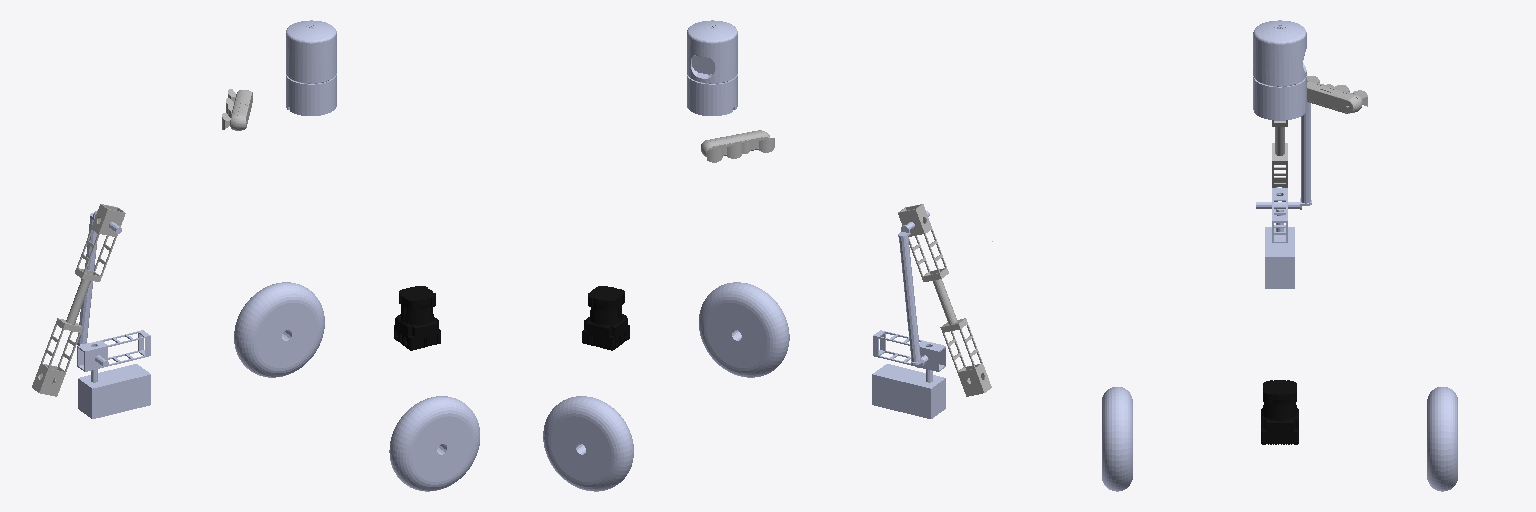
--- What the picture shows (computed from the rendered views, not written in the file) ---
3 views of the same robot in one strip: view 1: azimuth 30°, elevation 25°; view 2: azimuth 150°, elevation 25°; view 3: azimuth 270°, elevation 25° (orthographic).
Robot: BeobotV3_arm — 17 links, 16 joints (6 continuous, 10 fixed); root link dummy_link; default pose: every joint at zero.
Links seen in each view (by area): view 1: left_wheel, right_wheel, Velodine, arm_link_3, arm_base, Hokuyo, arm_link_1, realsense-3, arm_link_2; view 2: left_wheel, right_wheel, Velodine, arm_link_3, arm_base, Hokuyo, realsense-3, arm_link_2, arm_link_1; view 3: Velodine, left_wheel, right_wheel, Hokuyo, arm_base, realsense-3, arm_link_2, arm_link_3, arm_link_1.
Link boxes in pixels (x1,y1,x2,y2): left_wheel: (234, 282, 324, 377); right_wheel: (389, 396, 479, 491); Velodine: (286, 20, 336, 115); arm_link_3: (32, 204, 125, 396); arm_base: (78, 364, 150, 418); Hokuyo: (394, 286, 440, 350); arm_link_1: (77, 330, 150, 371); realsense-3: (222, 89, 252, 130); arm_link_2: (77, 210, 121, 366); left_wheel: (543, 396, 633, 491); right_wheel: (699, 282, 789, 377); Velodine: (687, 20, 737, 115); arm_link_3: (898, 204, 991, 396); arm_base: (872, 364, 945, 418); Hokuyo: (582, 286, 629, 350); realsense-3: (701, 130, 774, 162); arm_link_2: (898, 211, 940, 367); arm_link_1: (873, 330, 945, 371); Velodine: (1253, 20, 1306, 120); left_wheel: (1427, 387, 1457, 491); right_wheel: (1102, 387, 1132, 491); Hokuyo: (1261, 380, 1298, 444); arm_base: (1265, 209, 1294, 288); realsense-3: (1307, 76, 1367, 113); arm_link_2: (1256, 102, 1311, 209); arm_link_3: (1272, 120, 1287, 201); arm_link_1: (1272, 188, 1287, 242).
Bounding box of the posed robot: 0.7713 × 0.5707 × 0.7689 m (x, y, z).
Meshes: 15 distinct files referenced, 9 mesh visuals loaded (9 binary STL); not drawn: 6 (reference not matched to a file when rendering).

URDF robot description (BeobotV3_arm):
<?xml version="1.0" encoding="utf-8" ?>
<!-- This URDF was automatically created by SolidWorks to URDF Exporter! Originally created by Stephen Brawner ([email redacted])
     Commit Version: 1.6.0-1-g15f4949  Build Version: 1.6.7594.29634
     For more information, please see http://wiki.ros.org/sw_urdf_exporter -->
<robot name="BeobotV3_arm">
    <link name="dummy_link" />

    <joint name="base_joint" type="fixed">
      <parent link="dummy_link"/>
      <child link="base_link"/>
    </joint>

    <link name="base_link">
        <inertial>
            <origin xyz="-0.0540524229513283 -2.80196644130983E-18 0.15164478218561" rpy="0 0 0" />
            <mass value="12.6734803957436" />
            <inertia
              ixx="0.190640162086902"
              ixy="-3.99961466955356E-19"
              ixz="-3.56567450144761E-06"
              iyy="0.0962399295509494"
              iyz="-4.43897166295985E-18"
              izz="0.279749651250404" />
        </inertial>
        <visual>
            <origin xyz="0 0 0" rpy="0 0 0" />
            <geometry>
                <mesh filename="package://BeobotV3_arm/meshes/base_link.STL" />
            </geometry>
            <material name="">
                <color rgba="0.752941176470588 0.752941176470588 0.752941176470588 1" />
            </material>
        </visual>
        <collision>
            <origin xyz="0 0 0" rpy="0 0 0" />
            <geometry>
                <mesh filename="package://BeobotV3_arm/meshes/base_link.STL" />
            </geometry>
        </collision>
    </link>

    <link name="left_wheel">
        <inertial>
            <origin xyz="0 0 0.025" rpy="0 0 0" />
            <mass value="0.963877503284561" />
            <inertia
              ixx="0.00173116001505925"
              ixy="9.09442722940398E-37"
              ixz="7.05860789378559E-22"
              iyy="0.00173116001505925"
              iyz="7.62310521474892E-37"
              izz="0.00310961165234764" />
        </inertial>
        <visual>
            <origin xyz="0 0 0" rpy="0 0 0" />
            <geometry>
                <mesh filename="package://BeobotV3_arm/meshes/left_wheel.STL" />
                <!-- <cylinder radius="0.84" length="0.05"/> -->
            </geometry>
            <material name="">
                <color rgba="0.792156862745098 0.819607843137255 0.933333333333333 1" />
            </material>
        </visual>
        <collision>
            <origin xyz="0 0 0" rpy="0 0 0" />
            <geometry>
                <mesh filename="package://BeobotV3_arm/meshes/left_wheel.STL" />
                <!-- <cylinder radius="0.84" length="0.05"/> -->
            </geometry>
        </collision>
    </link>
    <joint name="left_wheel_joint" type="continuous">
        <origin xyz="0 0.23535 0" rpy="1.5707963267949 0 3.14159265358979" />
        <parent link="base_link" />
        <child link="left_wheel" />
        <axis xyz="0 0 1" />
    </joint>

    <link name="right_wheel">
        <inertial>
            <origin xyz="0 2.08166817117217E-17 -0.0250000000000001" rpy="0 0 0" />
            <mass value="0.963877503284561" />
            <inertia
              ixx="0.00173116001505925"
              ixy="-5.14894137640762E-36"
              ixz="-1.30593527677662E-21"
              iyy="0.00173116001505925"
              iyz="5.86567729539708E-36"
              izz="0.00310961165234764" />
        </inertial>
        <visual>
            <origin xyz="0 0 0" rpy="0 0 0" />
            <geometry>
                <mesh filename="package://BeobotV3_arm/meshes/right_wheel.STL" />
                <!-- <cylinder radius="0.84" length="0.05"/> -->
            </geometry>
            <material name="">
                <color rgba="0.792156862745098 0.819607843137255 0.933333333333333 1" />
            </material>
        </visual>
        <collision>
            <origin xyz="0 0 0" rpy="0 0 0" />
            <geometry>
                <mesh filename="package://BeobotV3_arm/meshes/right_wheel.STL" />
                <!-- <cylinder radius="0.84" length="0.05"/> -->
            </geometry>
        </collision>
    </link>
    <joint name="right_wheel_joint" type="continuous">
        <origin xyz="0 -0.23535 0" rpy="1.5707963267949 0 3.14159265358979" />
        <parent link="base_link" />
        <child link="right_wheel" />
        <axis xyz="0 0 1" />
    </joint>

    <link name="Velodine">
        <inertial>
            <origin xyz="-0.0306692795169704 -0.400775426971348 3.61117669160948E-05" rpy="0 0 0" />
            <mass value="15.9477582618054" />
            <inertia
              ixx="0.838105665340041"
              ixy="-0.0948860132071082"
              ixz="-7.28121256851248E-05"
              iyy="0.594843663668739"
              iyz="-0.000139948208842804"
              izz="0.789705212541028" />
        </inertial>
        <visual>
            <origin xyz="0 0 0" rpy="0 0 0" />
            <geometry>
                <mesh filename="package://BeobotV3_arm/meshes/Velodine.STL" />
            </geometry>
            <material name="">
                <color rgba="0.792156862745098 0.819607843137255 0.933333333333333 1" />
            </material>
        </visual>
        <collision>
            <origin xyz="0 0 0" rpy="0 0 0" />
            <geometry>
                <mesh filename="package://BeobotV3_arm/meshes/Velodine.STL" />
            </geometry>
        </collision>
    </link>
    <joint name="Velodine_joint" type="fixed">
        <origin xyz="-0.0889 0 0.5403395" rpy="1.5707963267949 0 3.14159265358979" />
        <parent link="base_link" />
        <child link="Velodine" />
        <axis xyz="0 0 0" />
    </joint>

    <link name="Hokuyo">
        <inertial>
            <origin xyz="9.62077518563717E-13 -0.0104575797147916 1.47756675626942E-05" rpy="0 0 0" />
            <mass value="0.485765672289228" />
            <inertia
              ixx="0.000181662528040023"
              ixy="-9.18790817482381E-15"
              ixz="-3.66491747065221E-18"
              iyy="0.000256014886917181"
              iyz="3.34955142680391E-07"
              izz="0.000181671483298989" />
        </inertial>
        <visual>
            <origin xyz="0 0 0" rpy="0 0 0" />
            <geometry>
                <mesh filename="package://BeobotV3_arm/meshes/Hokuyo.STL" />
            </geometry>
            <material name="">
                <color rgba="0.109803921568627 0.109803921568627 0.109803921568627 1" />
            </material>
        </visual>
        <collision>
            <origin xyz="0 0 0" rpy="0 0 0" />
            <geometry>
                <mesh filename="package://BeobotV3_arm/meshes/Hokuyo.STL" />
            </geometry>
        </collision>
    </link>
    <joint name="Hokuyo_joint" type="fixed">
        <origin xyz="0.1162 0 0.0993875000000001" rpy="1.5707963267949 0 1.5707963267949" />
        <parent link="base_link" />
        <child link="Hokuyo" />
        <axis xyz="0 0 0" />
    </joint>

    <link name="realsense_1">
        <inertial>
            <origin xyz="-0.000390708976708254 6.02138506335947E-05 -0.00789836129257429" rpy="0 0 0" />
            <mass value="0.0640757405660625" />
            <inertia
              ixx="4.56933951027745E-06"
              ixy="1.96370249253269E-08"
              ixz="-1.96401695521429E-08"
              iyy="5.78325356060115E-05"
              iyz="-2.70197586009906E-08"
              izz="6.11005211697343E-05" />
        </inertial>
        <visual>
            <origin xyz="0 0 0" rpy="0 0 0" />
            <geometry>
                <mesh filename="package://BeobotV3_arm/meshes/realsense_1.STL" />
            </geometry>
            <material name="">
                <color rgba="0.752941176470588 0.752941176470588 0.752941176470588 1" />
            </material>
        </visual>
        <collision>
            <origin xyz="0 0 0" rpy="0 0 0" />
            <geometry>
                <mesh filename="package://BeobotV3_arm/meshes/realsense_1.STL" />
            </geometry>
        </collision>
    </link>
    <joint name="realsense_1_joint" type="fixed">
        <origin xyz="0.0422600000000009 -0.0099999999999999 0.5213395" rpy="1.5707963267949 0 1.5707963267949" />
        <parent link="base_link" />
        <child link="realsense_1" />
        <axis xyz="0 0 0" />
    </joint>

    <link name="realsense_2">
        <inertial>
            <origin xyz="-0.000390727709374324 6.02198850023772E-05 -0.00789831959333617" rpy="0 0 0" />
            <mass value="0.0640758135186947" />
            <inertia
              ixx="4.56932762258512E-06"
              ixy="1.96279369811374E-08"
              ixz="-1.96296363724813E-08"
              iyy="5.78324921025392E-05"
              iyz="-2.70182564061608E-08"
              izz="6.11004660020637E-05" />
        </inertial>
        <visual>
            <origin xyz="0 0 0" rpy="0 0 0" />
            <geometry>
                <mesh filename="package://BeobotV3_arm/meshes/realsense_2.STL" />
            </geometry>
            <material name="">
                <color rgba="0.752941176470588 0.752941176470588 0.752941176470588 1" />
            </material>
        </visual>
        <collision>
            <origin xyz="0 0 0" rpy="0 0 0" />
            <geometry>
                <mesh filename="package://BeobotV3_arm/meshes/realsense_2.STL" />
            </geometry>
        </collision>
    </link>
    <joint name="realsense_2_joint" type="fixed">
        <origin xyz="-0.0388587658548304 0.121650402733524 0.5213395" rpy="1.5707963267949 0 2.82743338823082" />
        <parent link="base_link" />
        <child link="realsense_2" />
        <axis xyz="0 0 0" />
    </joint>

    <link name="realsense-3">
        <inertial>
            <origin xyz="-0.000390711119713887 6.0214027051253E-05 -0.00789829972985666" rpy="0 0 0" />
            <mass value="0.0640759768391155" />
            <inertia
              ixx="4.56931678319547E-06"
              ixy="1.96354125642956E-08"
              ixz="-1.96294332408421E-08"
              iyy="5.78325523279262E-05"
              iyz="-2.70157099252027E-08"
              izz="6.11005273550649E-05" />
        </inertial>
        <visual>
            <origin xyz="0 0 0" rpy="0 0 0" />
            <geometry>
                <mesh filename="package://BeobotV3_arm/meshes/realsense-3.STL" />
            </geometry>
            <material name="">
                <color rgba="0.752941176470588 0.752941176470588 0.752941176470588 1" />
            </material>
        </visual>
        <collision>
            <origin xyz="0 0 0" rpy="0 0 0" />
            <geometry>
                <mesh filename="package://BeobotV3_arm/meshes/realsense-3.STL" />
            </geometry>
        </collision>
    </link>
    <joint name="realsense_3_joint" type="fixed">
        <origin xyz="-0.189132816459295 0.0851840836344303 0.5213395" rpy="1.5707963267949 0 -2.19911485751285" />
        <parent link="base_link" />
        <child link="realsense-3" />
        <axis xyz="0 0 0" />
    </joint>

    <link name="realsense-4">
        <inertial>
            <origin xyz="-0.000390713919330141 6.02136936868058E-05 -0.00789830932141175" rpy="0 0 0" />
            <mass value="0.0640759568050313" />
            <inertia
              ixx="4.56931439760879E-06"
              ixy="1.96328683659395E-08"
              ixz="-1.96361734184813E-08"
              iyy="5.78325491650241E-05"
              iyz="-2.70155908153957E-08"
              izz="6.11005263839729E-05" />
        </inertial>
        <visual>
            <origin xyz="0 0 0" rpy="0 0 0" />
            <geometry>
                <mesh filename="package://BeobotV3_arm/meshes/realsense-4.STL" />
            </geometry>
            <material name="">
                <color rgba="0.752941176470588 0.752941176470588 0.752941176470588 1" />
            </material>
        </visual>
        <collision>
            <origin xyz="0 0 0" rpy="0 0 0" />
            <geometry>
                <mesh filename="package://BeobotV3_arm/meshes/realsense-4.STL" />
            </geometry>
        </collision>
    </link>
    <joint name="realsense_4_joint" type="fixed">
        <origin xyz="-0.200888521505143 -0.0690037437469328 0.5213395" rpy="1.5707963267949 0 -0.942477796076929" />
        <parent link="base_link" />
        <child link="realsense-4" />
        <axis xyz="0 0 0" />
    </joint>

    <link name="realsense-5">
        <inertial>
            <origin xyz="-0.000390716747956966 6.02205586848759E-05 -0.00789835970695009" rpy="0 0 0" />
            <mass value="0.0640758067142823" />
            <inertia
              ixx="4.56932587114845E-06"
              ixy="1.96259892936864E-08"
              ixz="-1.9636514209515E-08"
              iyy="5.78325456632199E-05"
              iyz="-2.7015732675257E-08"
              izz="6.11005215872334E-05" />
        </inertial>
        <visual>
            <origin xyz="0 0 0" rpy="0 0 0" />
            <geometry>
                <mesh filename="package://BeobotV3_arm/meshes/realsense-5.STL" />
            </geometry>
            <material name="">
                <color rgba="0.752941176470588 0.752941176470588 0.752941176470588 1" />
            </material>
        </visual>
        <collision>
            <origin xyz="0 0 0" rpy="0 0 0" />
            <geometry>
                <mesh filename="package://BeobotV3_arm/meshes/realsense-5.STL" />
            </geometry>
        </collision>
    </link>
    <joint name="realsense_5_joint" type="fixed">
        <origin xyz="-0.0578798961807318 -0.127830742621022 0.5213395" rpy="1.5707963267949 0 0.314159265358991" />
        <parent link="base_link" />
        <child link="realsense-5" />
        <axis xyz="0 0 0" />
    </joint>

    <link name="arm_base">
        <inertial>
            <origin xyz="0.000546883601580506 -0.000676404986259573 -1.5573062355025E-18" rpy="0 0 0" />
            <mass value="0.323605809581169" />
            <inertia
              ixx="0.000161147613159255"
              ixy="8.44321479741357E-06"
              ixz="1.7747106211892E-21"
              iyy="0.000418295360654488"
              iyz="3.84890762879816E-21"
              izz="0.000450631135476571" />
        </inertial>
        <visual>
            <origin xyz="0 0 0" rpy="0 0 0" />
            <geometry>
                <mesh filename="package://BeobotV3_arm/meshes/arm_base.STL" />
            </geometry>
            <material name="">
                <color rgba="0.792156862745098 0.819607843137255 0.933333333333333 1" />
            </material>
        </visual>
        <collision>
            <origin xyz="0 0 0" rpy="0 0 0" />
            <geometry>
                <mesh filename="package://BeobotV3_arm/meshes/arm_base.STL" />
            </geometry>
        </collision>
    </link>
    <joint name="arm_base_joint" type="fixed">
        <origin xyz="-0.46908 0 0.1007725" rpy="-1.5707963267949 0 3.14159265358979" />
        <parent link="base_link" />
        <child link="arm_base" />
        <axis xyz="0 0 0" />
    </joint>

    <link name="arm_link_1">
        <inertial>
            <origin xyz="1.66693590412612E-17 -0.019 -0.0227815027756187" rpy="0 0 0" />
            <mass value="0.0178646986447077" />
            <inertia
              ixx="3.44196286692544E-05"
              ixy="-1.76485860894459E-22"
              ixz="5.0792226343193E-21"
              iyy="3.24160176753154E-05"
              iyz="2.97521070776508E-21"
              izz="5.52910048182246E-06" />
        </inertial>
        <visual>
            <origin xyz="0 0 0" rpy="0 0 0" />
            <geometry>
                <mesh filename="package://BeobotV3_arm/meshes/arm_link_1.STL" />
            </geometry>
            <material name="">
                <color rgba="0.792156862745098 0.819607843137255 0.933333333333333 1" />
            </material>
        </visual>
        <collision>
            <origin xyz="0 0 0" rpy="0 0 0" />
            <geometry>
                <mesh filename="package://BeobotV3_arm/meshes/arm_link_1.STL" />
            </geometry>
        </collision>
    </link>
    <joint name="arm_joint_1" type="continuous">
        <origin xyz="0.03912 -0.055925 0" rpy="0 1.5707963267949 0" />
        <parent link="arm_base" />
        <child link="arm_link_1" />
        <axis xyz="0 1 0" />
    </joint>

    <link name="arm_link_2">
        <inertial>
            <origin xyz="-0.121 -0.0307964899121853 -1.11022302462516E-16" rpy="0 0 0" />
            <mass value="0.0649301185542533" />
            <inertia
              ixx="3.22586635547296E-05"
              ixy="-2.52074029621246E-19"
              ixz="-4.84926362303087E-20"
              iyy="0.000476962065829218"
              iyz="-1.13511271119677E-20"
              izz="0.000507342791034516" />
        </inertial>
        <visual>
            <origin xyz="0 0 0" rpy="0 0 0" />
            <geometry>
                <mesh filename="package://BeobotV3_arm/meshes/arm_link_2.STL" />
            </geometry>
            <material name="">
                <color rgba="0.792156862745098 0.819607843137255 0.933333333333333 1" />
            </material>
        </visual>
        <collision>
            <origin xyz="0 0 0" rpy="0 0 0" />
            <geometry>
                <mesh filename="package://BeobotV3_arm/meshes/arm_link_2.STL" />
            </geometry>
        </collision>
    </link>
    <joint name="arm_joint_2" type="continuous">
        <origin xyz="0 -0.019 0" rpy="0 -0.109072359195873 1.5707963267949" />
        <parent link="arm_link_1" />
        <child link="arm_link_2" />
        <axis xyz="0 1 0" />
    </joint>

    <link name="arm_link_3">
        <inertial>
            <origin xyz="1.67772086973387E-17 0 -0.14258" rpy="0 0 0" />
            <mass value="0.0575915155354546" />
            <inertia
              ixx="8.87747106609759E-05"
              ixy="4.28852501605822E-21"
              ixz="2.93227973606134E-21"
              iyy="8.446537989153E-05"
              iyz="7.15742840429884E-20"
              izz="1.22592484459501E-05" />
        </inertial>
        <visual>
            <origin xyz="0 0 0" rpy="0 0 0" />
            <geometry>
                <mesh filename="package://BeobotV3_arm/meshes/arm_link_3.STL" />
            </geometry>
            <material name="">
                <color rgba="0.752941176470588 0.752941176470588 0.752941176470588 1" />
            </material>
        </visual>
        <collision>
            <origin xyz="0 0 0" rpy="0 0 0" />
            <geometry>
                <mesh filename="package://BeobotV3_arm/meshes/arm_link_3.STL" />
            </geometry>
        </collision>
    </link>
    <joint name="arm_joint_3" type="continuous">
        <origin xyz="-0.242 0 0" rpy="1.86868906869276 0 -1.5707963267949" />
        <parent link="arm_link_2" />
        <child link="arm_link_3" />
        <axis xyz="1 0 0" />
    </joint>

    <link name="hand">
        <inertial>
            <origin xyz="-0.136178264835158 -0.0169303769012779 -0.0186384219718446" rpy="0 0 0" />
            <mass value="0.0763861884062101" />
            <inertia
              ixx="7.13119994044158E-05"
              ixy="-0.000120515662281869"
              ixz="3.87785049449802E-05"
              iyy="0.000543690574797547"
              iyz="6.36829910880985E-06"
              izz="0.000568937035268819" />
        </inertial>
        <visual>
            <origin xyz="0 0 0" rpy="0 0 0" />
            <geometry>
                <mesh filename="package://BeobotV3_arm/meshes/hand.STL" />
            </geometry>
            <material name="">
                <color rgba="0.792156862745098 0.819607843137255 0.933333333333333 1" />
            </material>
        </visual>
        <collision>
            <origin xyz="0 0 0" rpy="0 0 0" />
            <geometry>
                <mesh filename="package://BeobotV3_arm/meshes/hand.STL" />
            </geometry>
        </collision>
    </link>
    <joint name="hand_joint" type="continuous">
        <origin xyz="0 0 -0.28516" rpy="-1.5707963267949 0.812050775618667 -1.5707963267949" />
        <parent link="arm_link_3" />
        <child link="hand" />
        <axis xyz="0 0 1" />
    </joint>

    <link name="hand_tip">
        <!-- FIXME: dummy mass and collision added to not get ignored by gazebo and moveit -->
        <inertial>
            <origin xyz="0 0 0" rpy="0 0 0" />
            <mass value="0.001" />
            <inertia ixx="0.001" ixy="0" ixz="0" iyy="0.001" iyz="0" izz="0.001" />
        </inertial>
        <visual>
            <origin xyz="0 0 0" rpy="0 0 0.45" />
            <geometry>
                <box size="0.001 0.001 0.001" />
            </geometry>
            <material name="">
                <color rgba="0.792156862745098 0.819607843137255 0.933333333333333 1" />
            </material>
        </visual>
        <collision>
            <origin xyz="0 0 0" rpy="0 0 0.45" />
            <geometry>
                <box size="0.001 0.001 0.001" />
            </geometry>
        </collision>
    </link>
    <joint name="hand_tip_joint" type="fixed">
        <origin xyz="-0.25 -0.06 -0.01" rpy="0 0 0" />
        <parent link="hand" />
        <child link="hand_tip" />
        <axis xyz="0 0 0" />
    </joint>

    <transmission name="trans_left_wheel_joint">
        <type>transmission_interface/SimpleTransmission</type>
        <joint name="left_wheel_joint">
            <hardwareInterface>hardware_interface/VelocityJointInterface</hardwareInterface>
        </joint>
        <actuator name="left_wheel_joint_motor">
            <hardwareInterface>hardware_interface/VelocityJointInterface</hardwareInterface>
            <mechanicalReduction>1</mechanicalReduction>
        </actuator>
    </transmission>
    <transmission name="trans_right_wheel_joint">
        <type>transmission_interface/SimpleTransmission</type>
        <joint name="right_wheel_joint">
            <hardwareInterface>hardware_interface/VelocityJointInterface</hardwareInterface>
        </joint>
        <actuator name="right_wheel_joint_motor">
            <hardwareInterface>hardware_interface/VelocityJointInterface</hardwareInterface>
            <mechanicalReduction>1</mechanicalReduction>
        </actuator>
    </transmission>
    <transmission name="trans_arm_joint_1">
        <type>transmission_interface/SimpleTransmission</type>
        <joint name="arm_joint_1">
            <hardwareInterface>hardware_interface/PositionJointInterface</hardwareInterface>
        </joint>
        <actuator name="arm_joint_1_motor">
            <hardwareInterface>hardware_interface/PositionJointInterface</hardwareInterface>
            <mechanicalReduction>1</mechanicalReduction>
        </actuator>
    </transmission>
    <transmission name="trans_arm_joint_2">
        <type>transmission_interface/SimpleTransmission</type>
        <joint name="arm_joint_2">
            <hardwareInterface>hardware_interface/PositionJointInterface</hardwareInterface>
        </joint>
        <actuator name="arm_joint_2_motor">
            <hardwareInterface>hardware_interface/PositionJointInterface</hardwareInterface>
            <mechanicalReduction>1</mechanicalReduction>
        </actuator>
    </transmission>
    <transmission name="trans_arm_joint_3">
        <type>transmission_interface/SimpleTransmission</type>
        <joint name="arm_joint_3">
            <hardwareInterface>hardware_interface/PositionJointInterface</hardwareInterface>
        </joint>
        <actuator name="arm_joint_3_motor">
            <hardwareInterface>hardware_interface/PositionJointInterface</hardwareInterface>
            <mechanicalReduction>1</mechanicalReduction>
        </actuator>
    </transmission>
    <transmission name="trans_hand_joint">
        <type>transmission_interface/SimpleTransmission</type>
        <joint name="hand_joint">
            <hardwareInterface>hardware_interface/PositionJointInterface</hardwareInterface>
        </joint>
        <actuator name="hand_joint_motor">
            <hardwareInterface>hardware_interface/PositionJointInterface</hardwareInterface>
            <mechanicalReduction>1</mechanicalReduction>
        </actuator>
    </transmission>

    <gazebo reference="arm_link_1">
        <sensor name='arm_link_1_contact' type='contact'>
            <update_rate> 50 </update_rate>
            <always_on>true</always_on>
            <contact>
                <collision>arm_link_1_collision</collision>
            </contact>
            <plugin name="ros_bumper_0" filename="libgazebo_ros_bumper.so">
                <bumperTopicName>arm_link1_collision</bumperTopicName>
                <frameName>arm_link_1</frameName>
            </plugin>
        </sensor>
    </gazebo>

    <gazebo reference="arm_link_2">
        <sensor name='arm_link_2_contact' type='contact'>
            <update_rate> 50 </update_rate>
            <always_on>true</always_on>
            <contact>
                <collision>arm_link_2_collision</collision>
            </contact>
            <plugin name="ros_bumper_1" filename="libgazebo_ros_bumper.so">
                <bumperTopicName>arm_link2_collision</bumperTopicName>
                <frameName>arm_link_2</frameName>
            </plugin>
        </sensor>
    </gazebo>

    <gazebo reference="arm_link_3">
        <sensor name='arm_link_3_contact' type='contact'>
            <update_rate> 50 </update_rate>
            <always_on>true</always_on>
            <contact>
                <collision>arm_link_3_collision</collision>
            </contact>
            <plugin name="ros_bumper_2" filename="libgazebo_ros_bumper.so">
                <bumperTopicName>arm_link3_collision</bumperTopicName>
                <frameName>arm_link_3</frameName>
            </plugin>
        </sensor>
    </gazebo>

    <gazebo reference="hand">
        <sensor name='hand_contact' type='contact'>
            <update_rate> 50 </update_rate>
            <always_on>true</always_on>
            <contact>
                <collision>hand_collision</collision>
            </contact>
            <plugin name="ros_bumper_3" filename="libgazebo_ros_bumper.so">
                <bumperTopicName>hand_collision</bumperTopicName>
                <frameName>hand</frameName>
            </plugin>
        </sensor>
    </gazebo>

    <!-- FIXME: bumper sensor for base_link; currently not implemented because of caster wheel -->

    <!-- base_link includes caster wheel, so should have no friction -->
    <gazebo reference="base_link">
      <mu1 value="0.0"/>
      <mu2 value="0.0"/>
      <kp value="10000000.0" />
      <kd value="1.0" />
      <fdir1 value="1 0 0"/>
      <turnGravityOff>false</turnGravityOff>
    </gazebo>
    <gazebo reference="left_wheel">
      <mu1 value="1.0"/>
      <mu2 value="1.0"/>
      <kp value="10000000.0" />
      <kd value="1.0" />
      <fdir1 value="1 0 0"/>
      <turnGravityOff>false</turnGravityOff>
    </gazebo>
    <gazebo reference="right_wheel">
      <mu1 value="1.0"/>
      <mu2 value="1.0"/>
      <kp value="10000000.0" />
      <kd value="1.0" />
      <fdir1 value="1 0 0"/>
      <turnGravityOff>false</turnGravityOff>
    </gazebo>
    <gazebo>
        <plugin name="gazebo_ros_control" filename="libgazebo_ros_control.so">
            <robotNamespace>/</robotNamespace>
        </plugin>
    </gazebo>
</robot>
